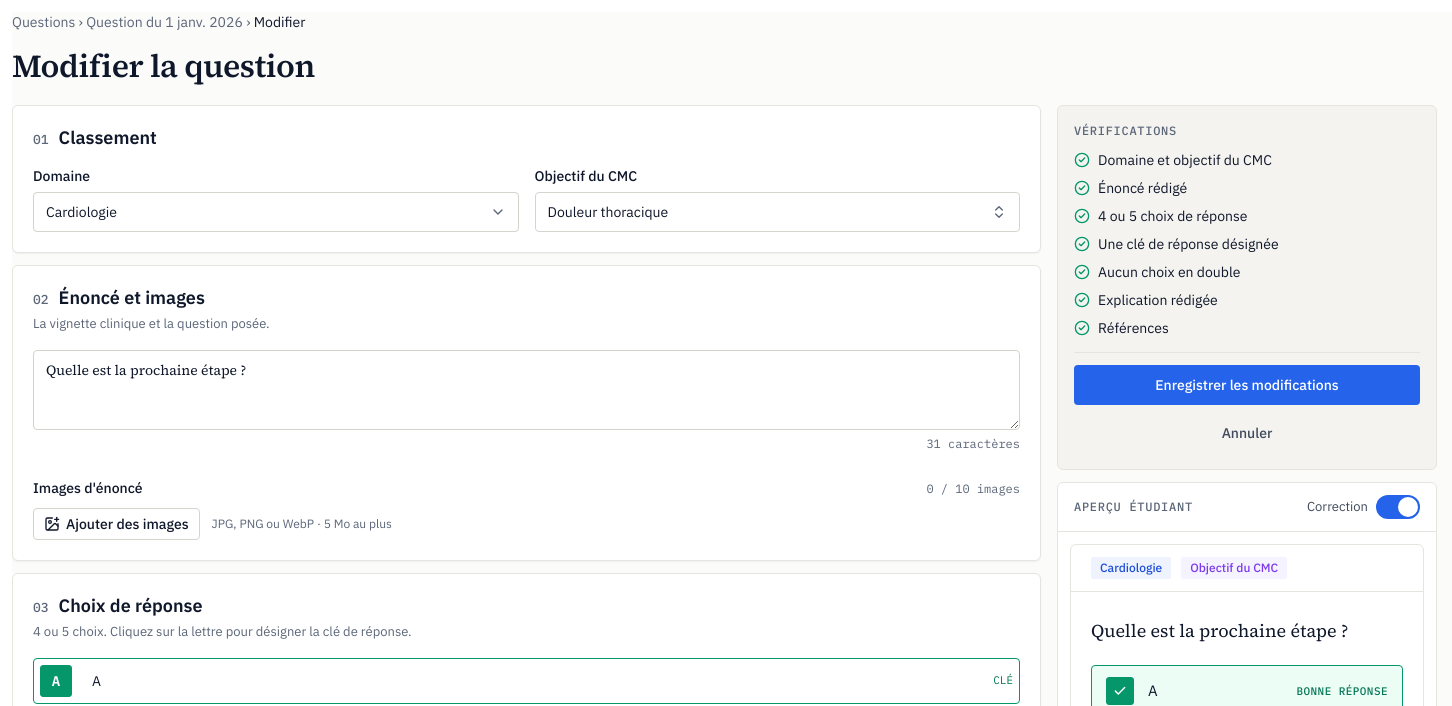
Test: QuestionForm — édition › le refus d'un jeu d'images s'affiche avec son motif
The image size is (1452, 706).
Click the button with test id "btn-save-question".
click(1247, 385)  # box [1074,365,1420,405]
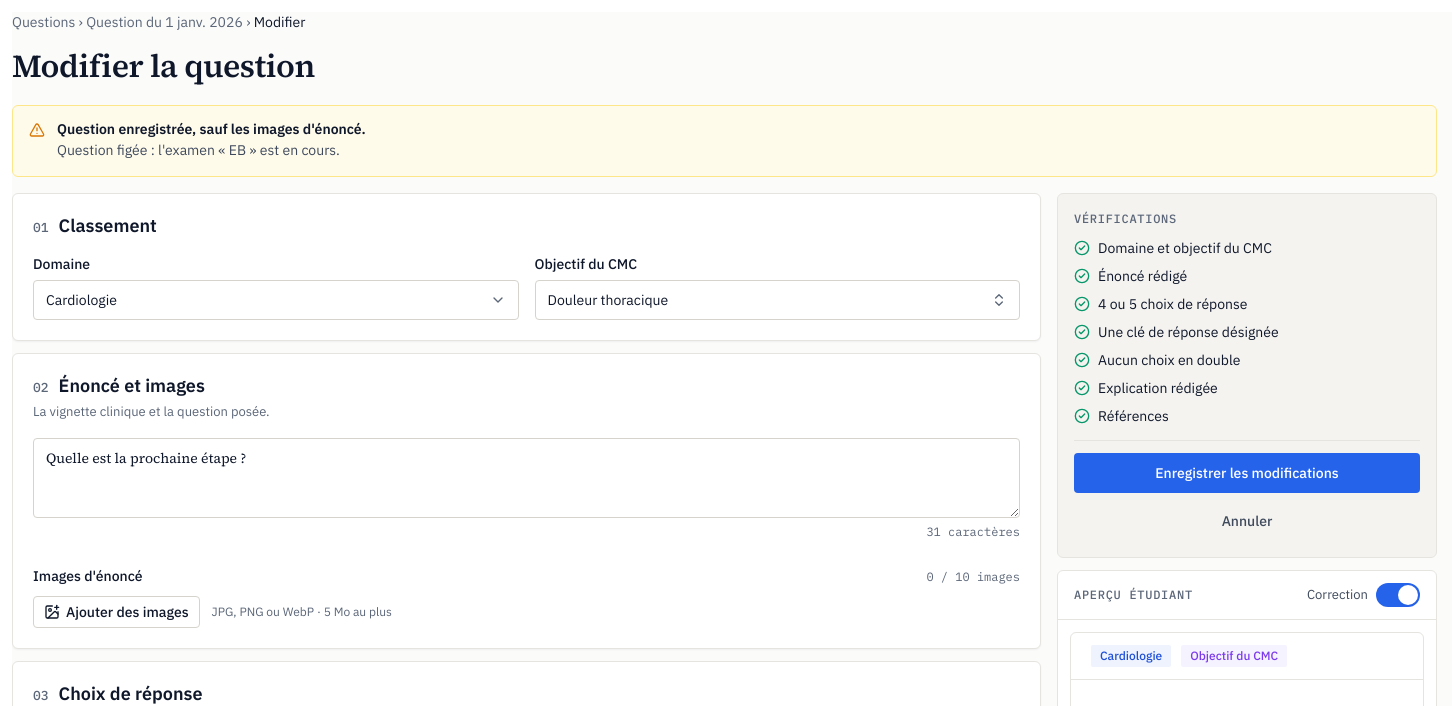
expect the message with test id "images-error" shows "Question enregistrée, sauf les images d'énoncé.": met, box [12,105,1437,177]
expect the message with test id "images-error" shows "l'examen « EB » est en cours": met, box [57,141,340,159]
